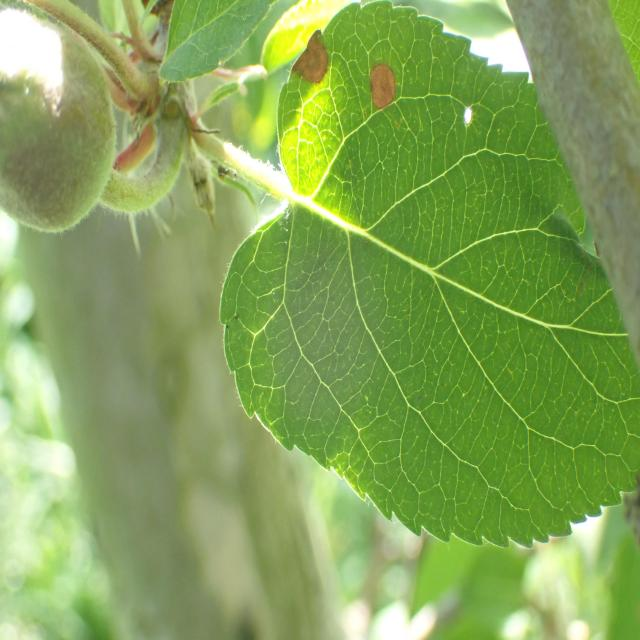frog-eye-leaf-spot: (218, 0, 640, 548)
